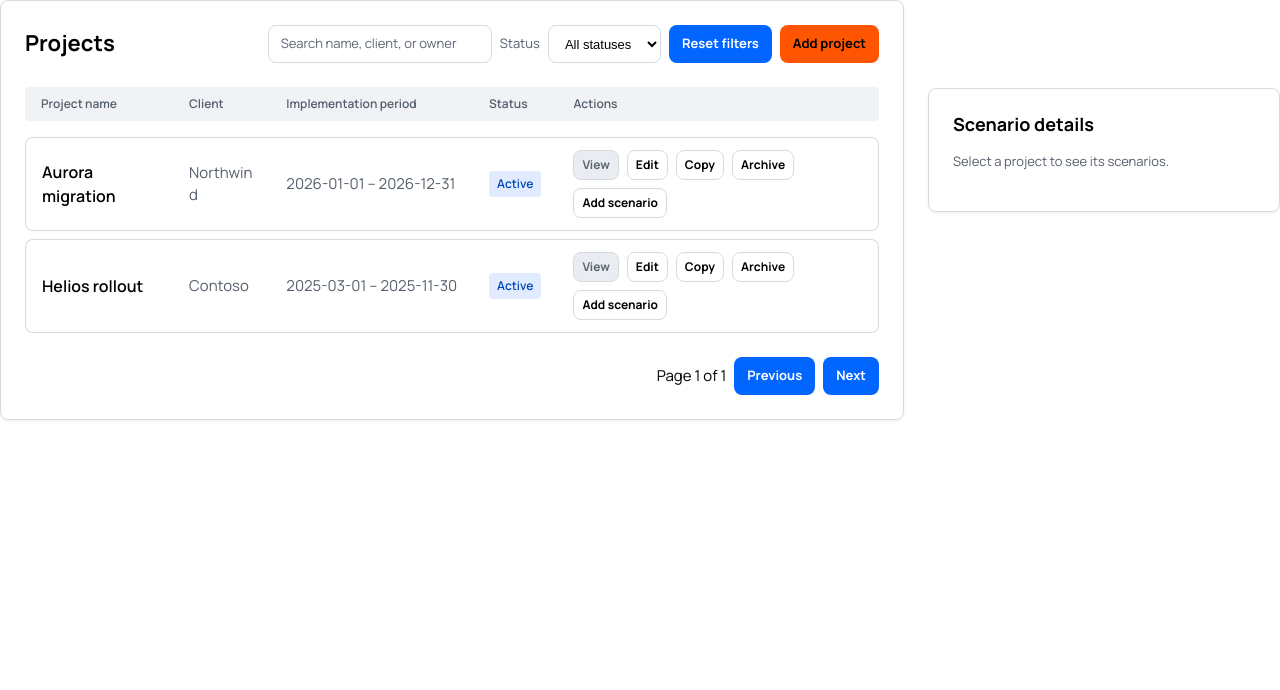
Test: K-04 — a refused read of the commercial terms stays inside its section › names a server failure of the read as a failure, and lets it be read again
This screenshot has width=1280, height=690.
Click the button "Aurora migration" at (100, 184), box x1=42 y1=160 x2=157 y2=208
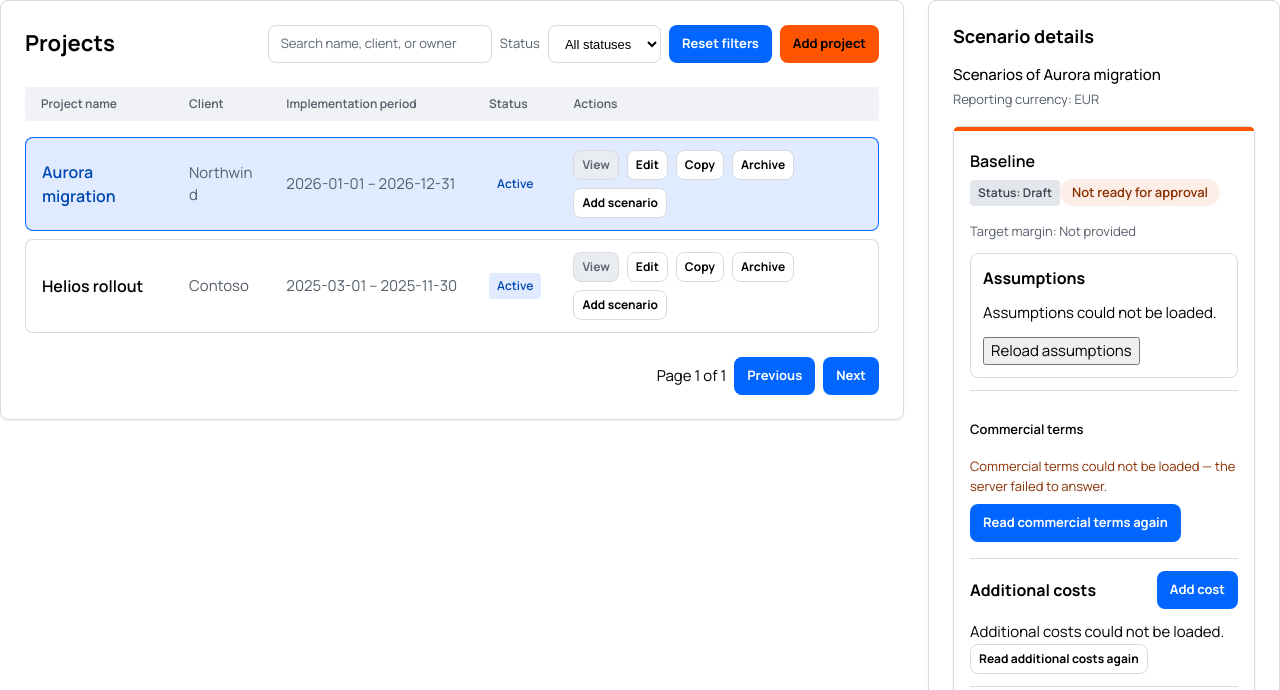
Expected: the text "Commercial terms could not be loaded — the server failed to answer." is shown, x1=970 y1=457 x2=1238 y2=496
Click the button with aria-label "Read commercial terms again for Baseline" at (1075, 523), box x1=970 y1=504 x2=1181 y2=542
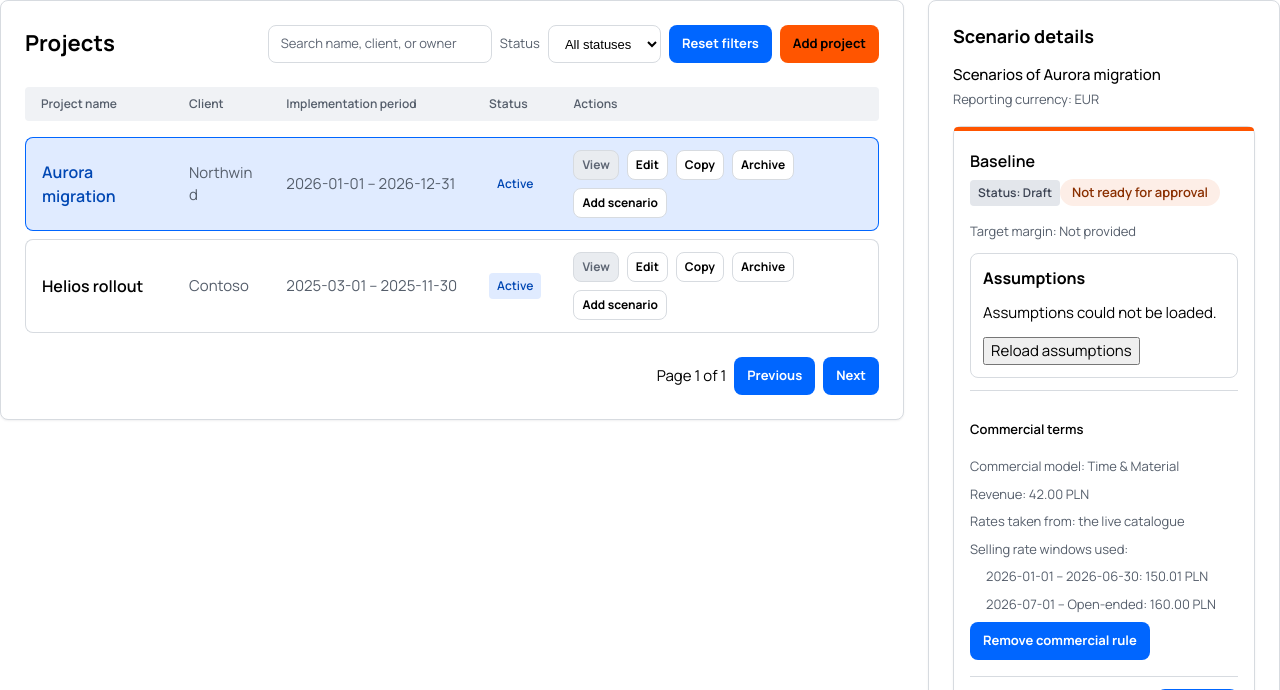
Expected: the text "Revenue: 42.00 PLN" is shown, x1=970 y1=485 x2=1089 y2=503
